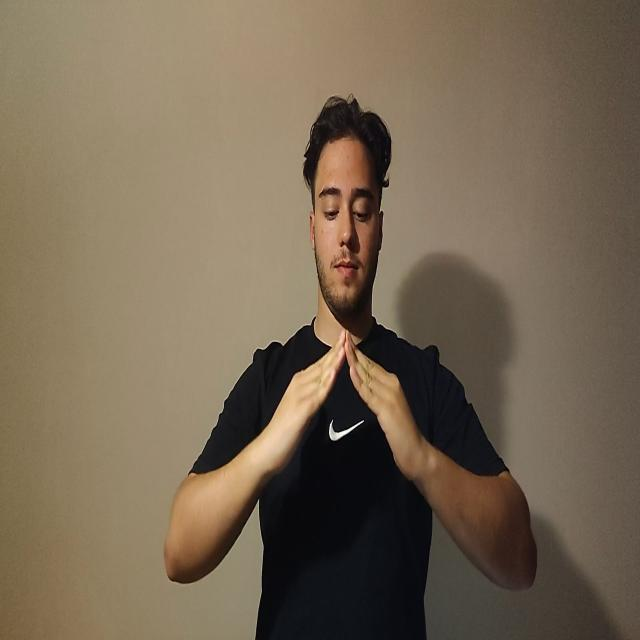house: (259, 331, 422, 490)
